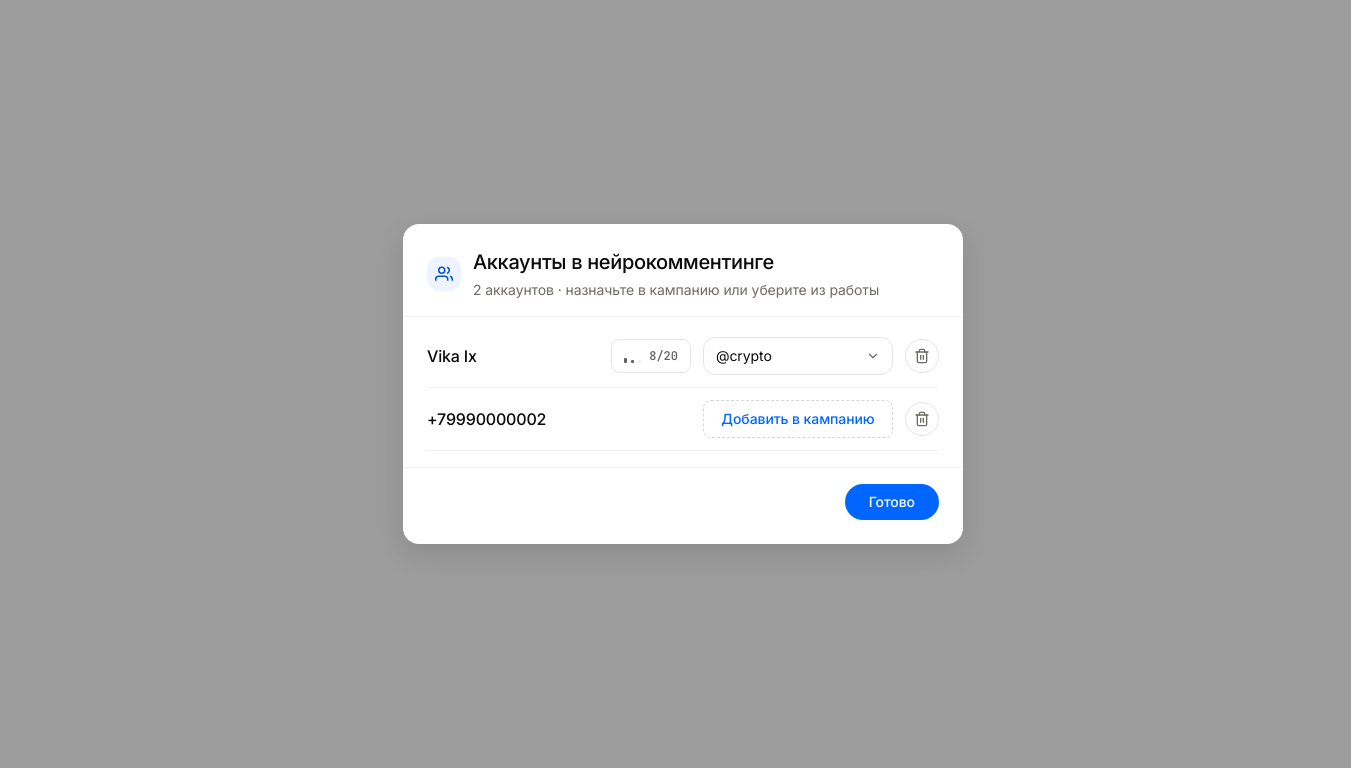
Test: the dropdown reflects the account subset and offers all channels
The width and height of the screenshot is (1366, 768).
Click the button with aria-label "Каналы аккаунта". click: [798, 356]
box: [703,337,893,375]
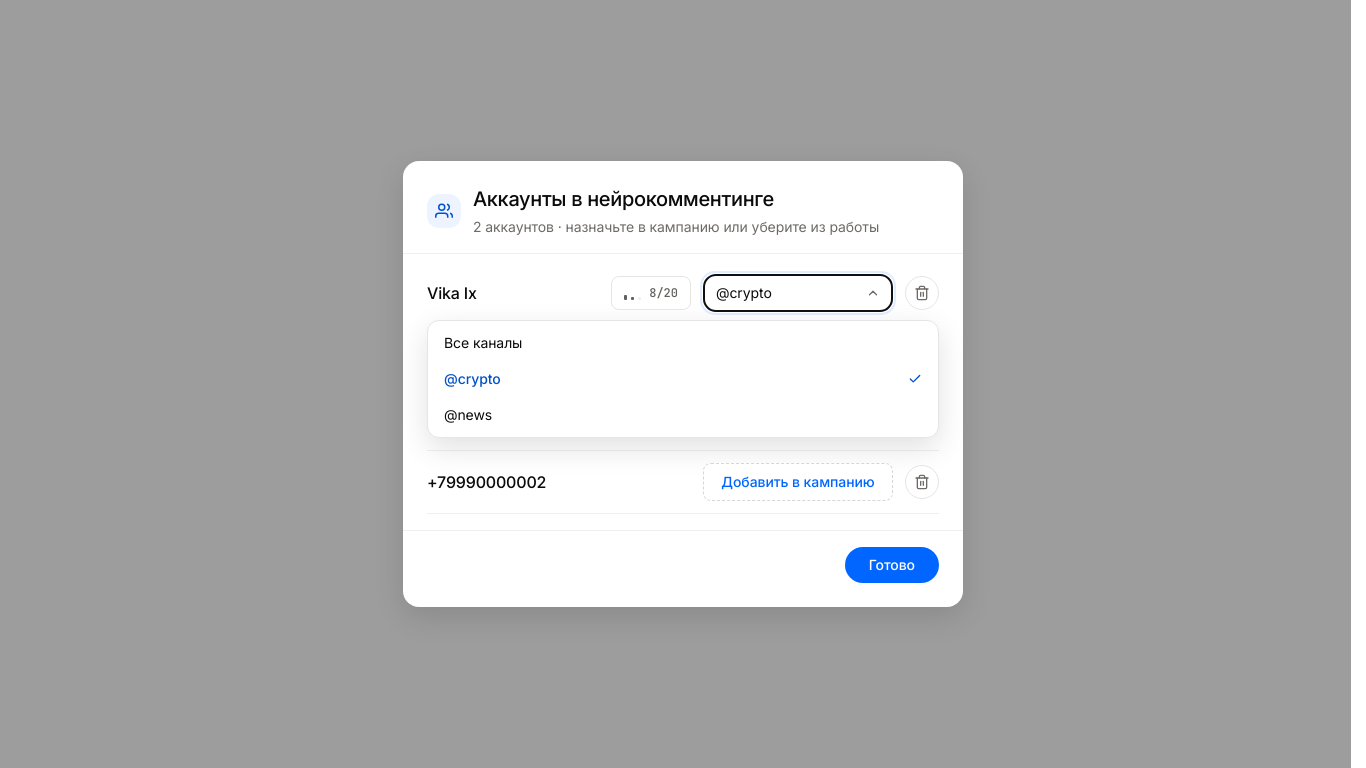
Now the options read "Все каналы", "@crypto", "@news", in this order, box [432,325,934,361]; [432,361,934,397]; [432,397,934,433]
Now the option "@crypto" is shown, box [432,361,934,397]
